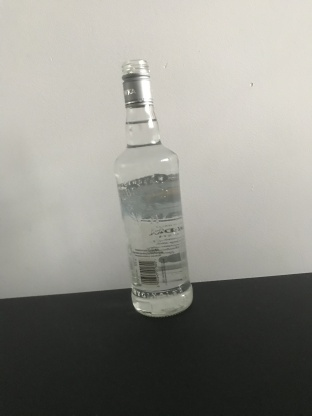nakretka: (119, 57, 155, 109)
